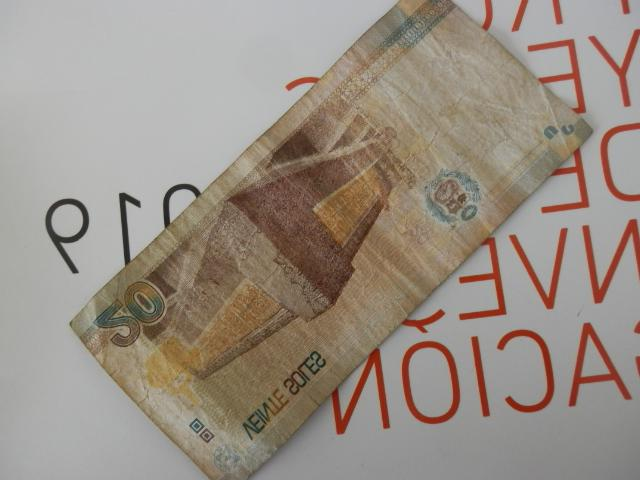B20: (67, 1, 594, 480)
